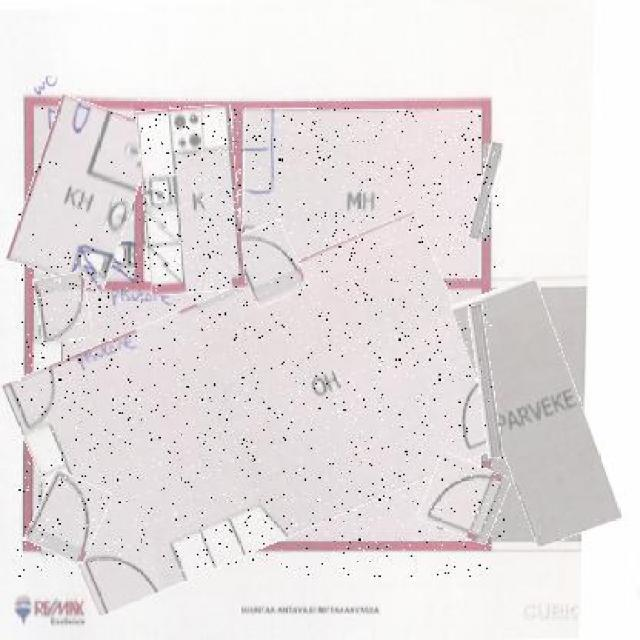door: (17, 249, 495, 577), (243, 110, 482, 278), (471, 280, 603, 543), (19, 100, 146, 286), (423, 457, 506, 540), (31, 474, 106, 560), (236, 222, 302, 304), (36, 274, 90, 341)
window: (474, 304, 497, 458), (474, 142, 498, 240)
zone: (140, 106, 240, 294)
